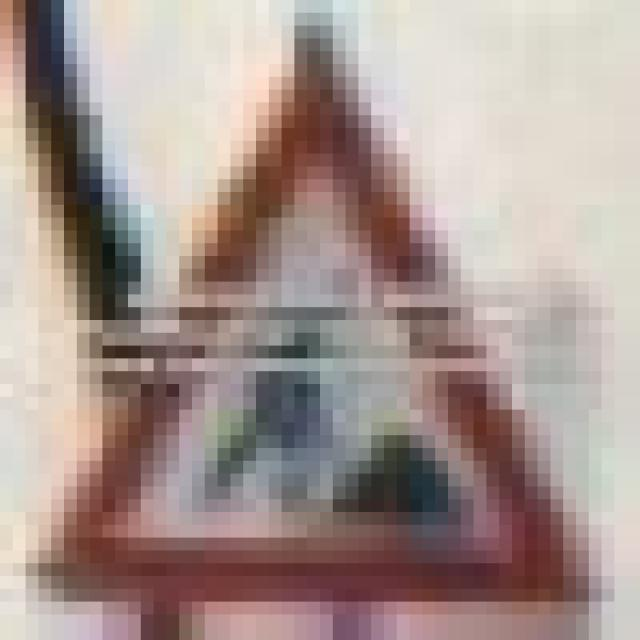road_work: (13, 38, 576, 589)
